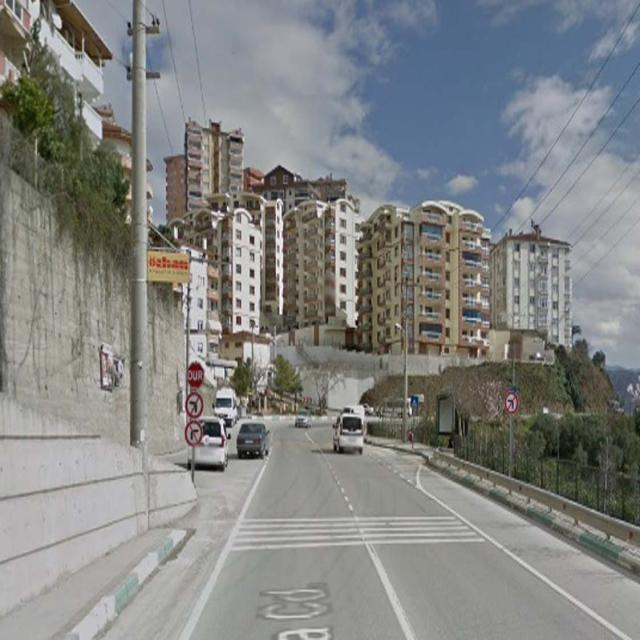dur: (186, 362, 204, 388)
sagadonulmez: (185, 421, 202, 447)
soladonulmez: (185, 393, 203, 418), (504, 392, 519, 416)
